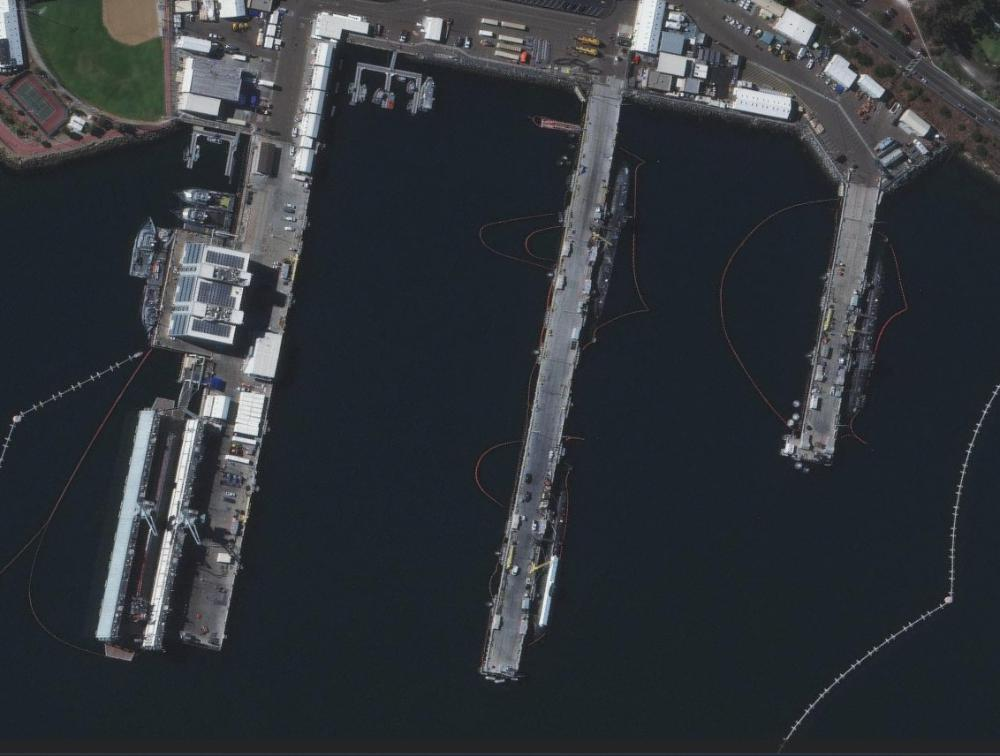submarine: (516, 463, 585, 652), (843, 255, 909, 443), (584, 161, 639, 347)
